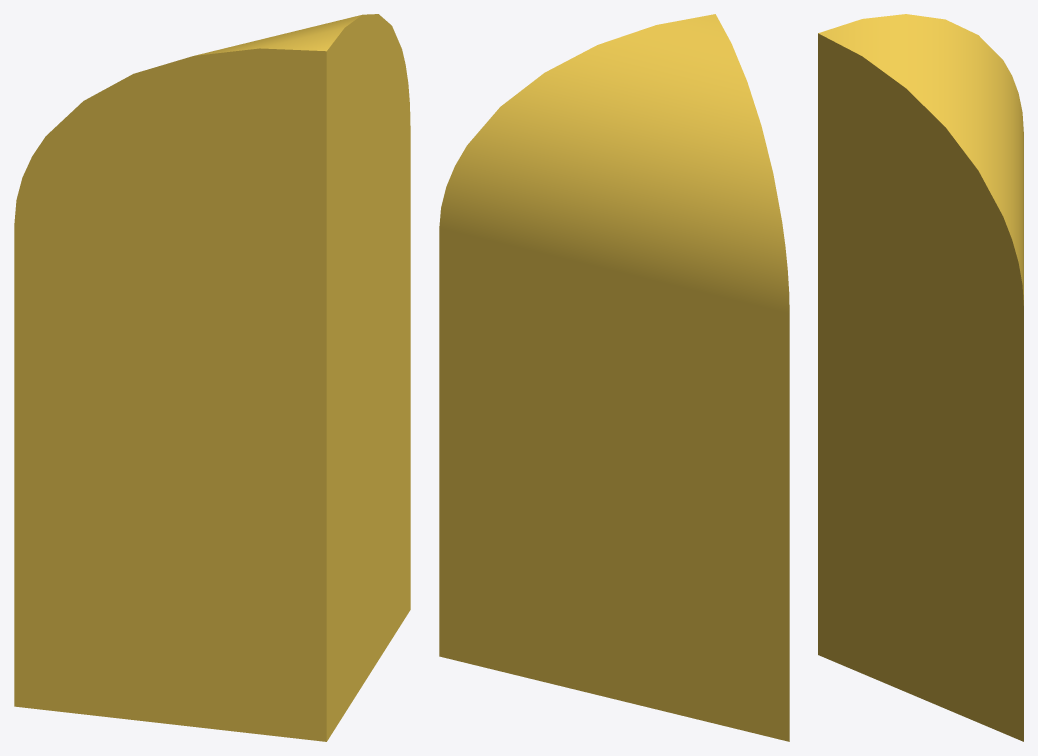
File: Corner_Corner.obj
3 views of the same model, side by side, from view 1: azimuth 30°, elevation 25°; view 2: azimuth 150°, elevation 25°; view 3: azimuth 270°, elevation 25° (orthographic). The views are drawn at different scales.
Parts seen in each view (by area): view 1: Corner_Corner; view 2: Corner_Corner; view 3: Corner_Corner.
Boxes of the visible parts, x1,y1,x2,y2 form: Corner_Corner: (14,14,410,741); Corner_Corner: (439,14,789,741); Corner_Corner: (818,14,1023,741).
Size of the model in its own units: 0.3 by 0.5 by 0.15.
